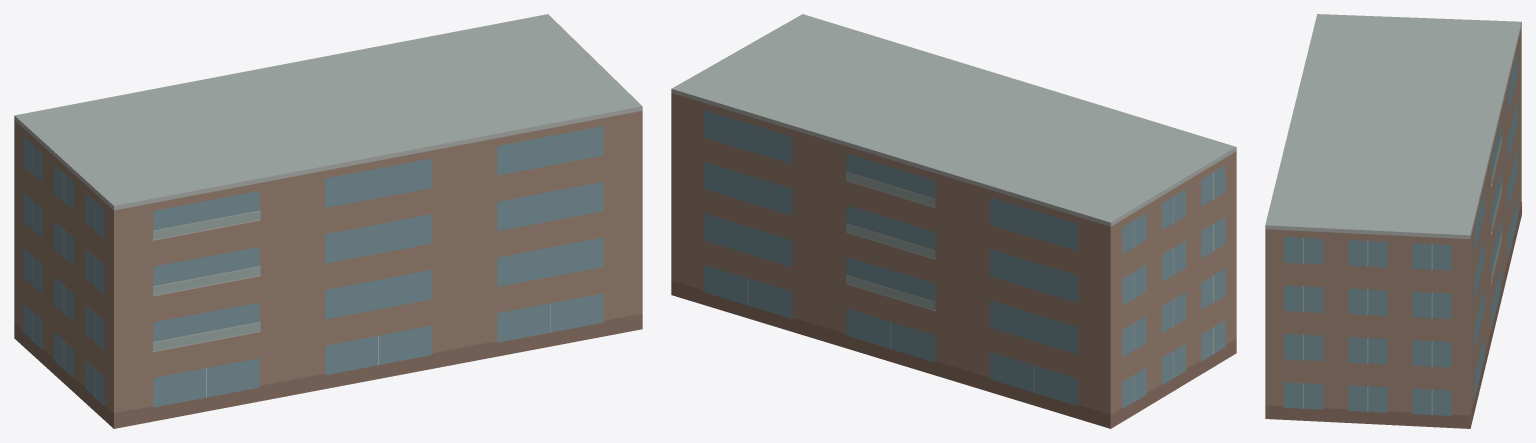
File: survey-upis-32982550.glb
3 views of the same model, side by side, from view 1: azimuth 30°, elevation 25°; view 2: azimuth 150°, elevation 25°; view 3: azimuth 270°, elevation 25° (orthographic). The views are drawn at different scales.
Parts seen in each view (by area): view 1: survey-upis-32982550.tmp; view 2: survey-upis-32982550.tmp; view 3: survey-upis-32982550.tmp.
Boxes of the visible parts, box(x1,y1,x2,y2) form: survey-upis-32982550.tmp: box(14, 14, 642, 428); survey-upis-32982550.tmp: box(671, 14, 1236, 428); survey-upis-32982550.tmp: box(1265, 14, 1521, 428).
Size of the model in its own units: 29.94 by 12.2 by 14.67.
